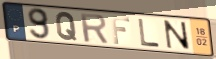9: (26, 6, 52, 41)
F: (109, 15, 132, 45)
L: (137, 18, 162, 49)
N: (162, 19, 193, 52)
Q: (55, 11, 79, 42)
R: (78, 11, 110, 45)
